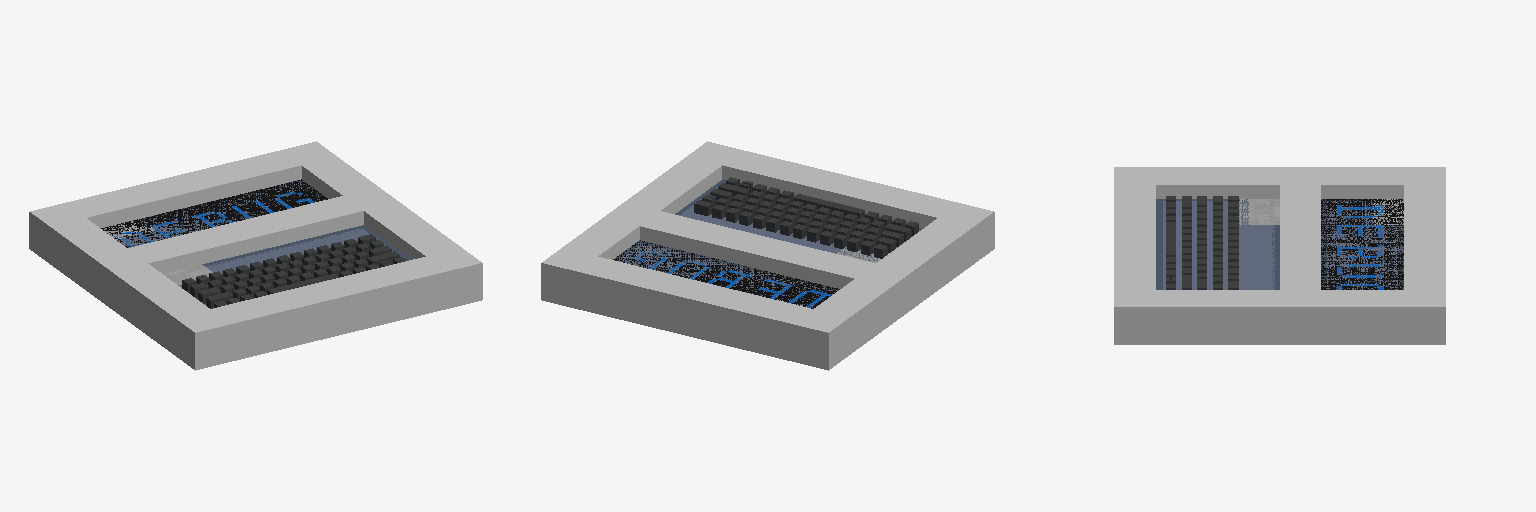
The picture shows the model from 3 angles: view 1: azimuth 30°, elevation 25°; view 2: azimuth 150°, elevation 25°; view 3: azimuth 270°, elevation 25°; orthographic projection.
Visible parts, largest first — view 1: cube; view 2: cube; view 3: cube.
Boxes of the visible parts, x1=… form: cube: x1=29, y1=141, x2=482, y2=370; cube: x1=541, y1=141, x2=994, y2=370; cube: x1=1114, y1=167, x2=1445, y2=344.
Size of the model in its own units: 1 by 0.125 by 1.
3 materials, 2 textured.